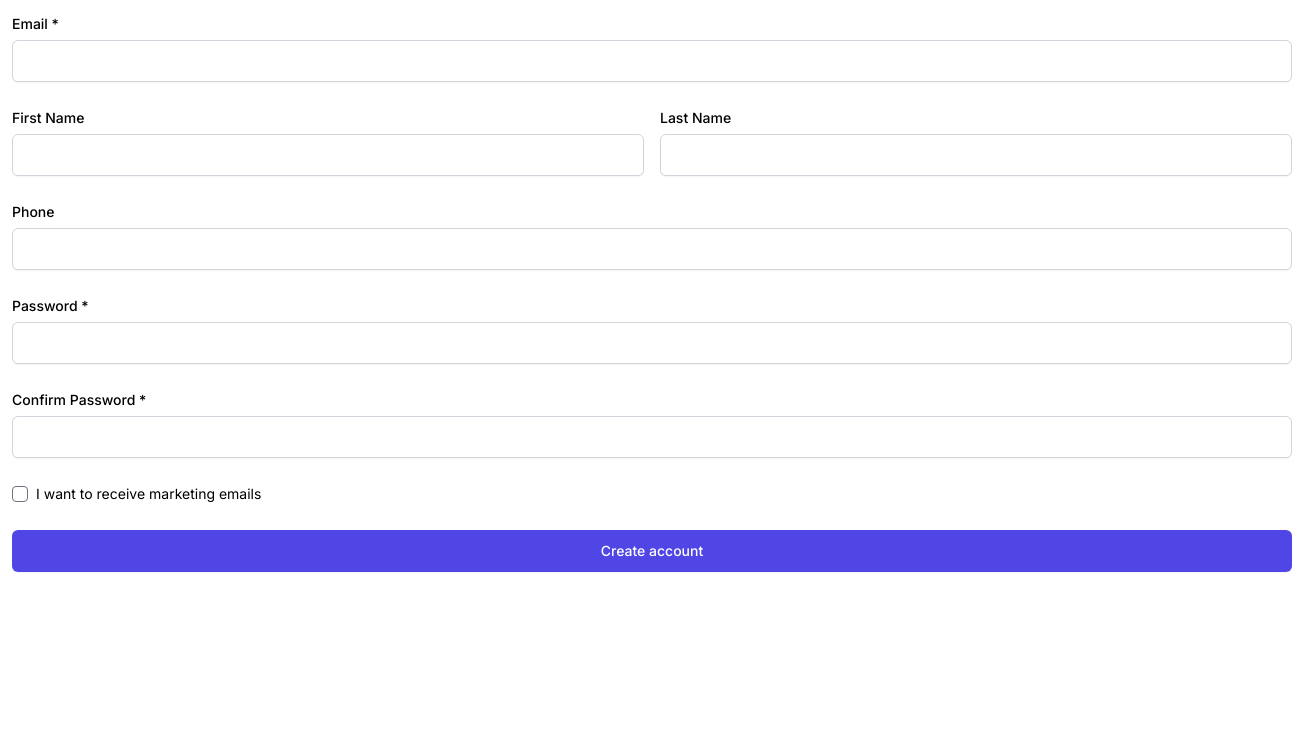
Test case: RegisterForm › should show validation error when passwords do not match
Type "test@example.com" into the field labelled "Email *" at (652, 61), box 12,40 -> 1292,82
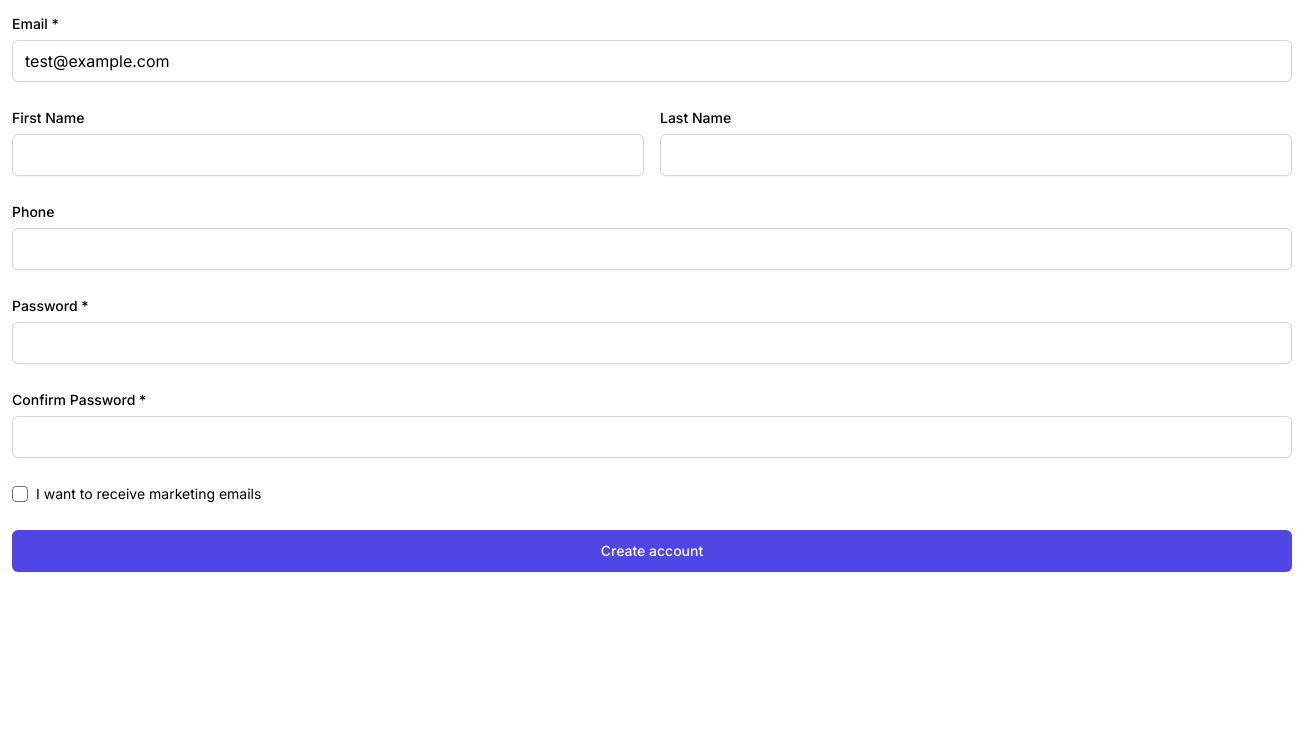
Type "password123" into the password field labelled "Password *" at (652, 343), box 12,322 -> 1292,364
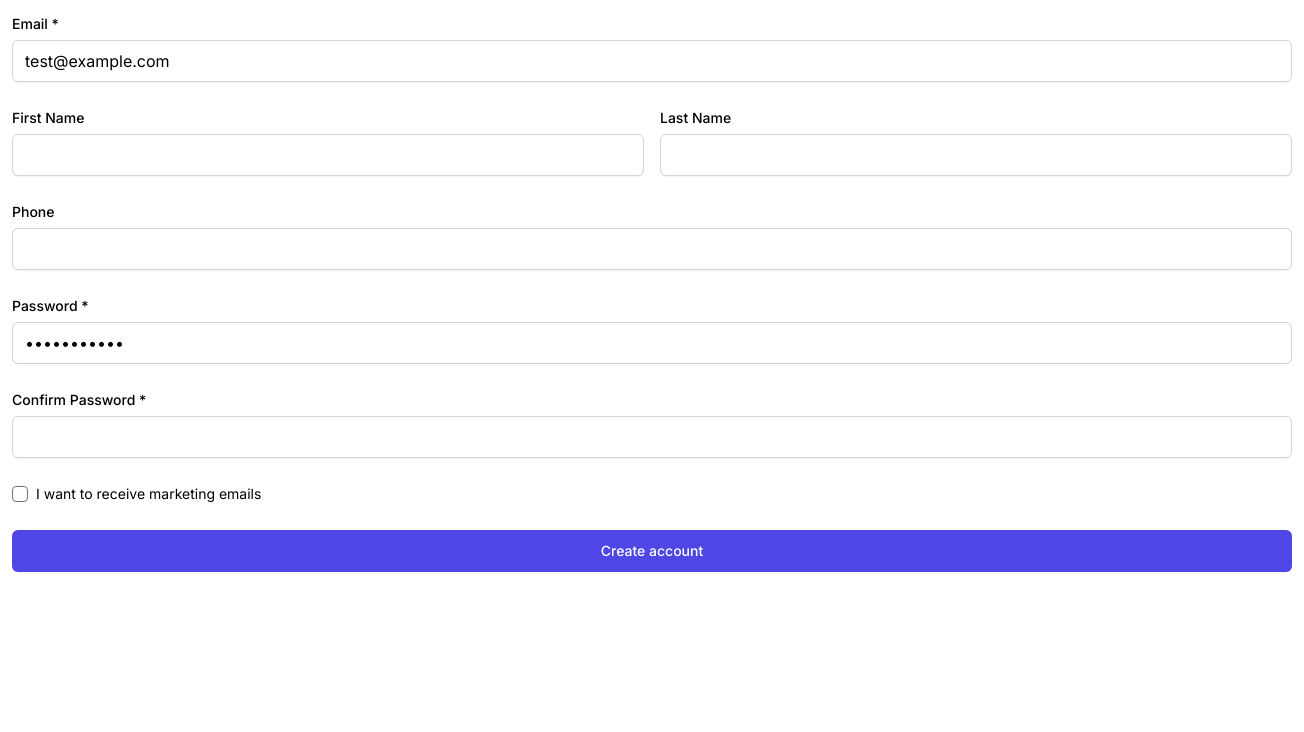
Type "password456" into the password field labelled "Confirm Password *" at (652, 437), box 12,416 -> 1292,458
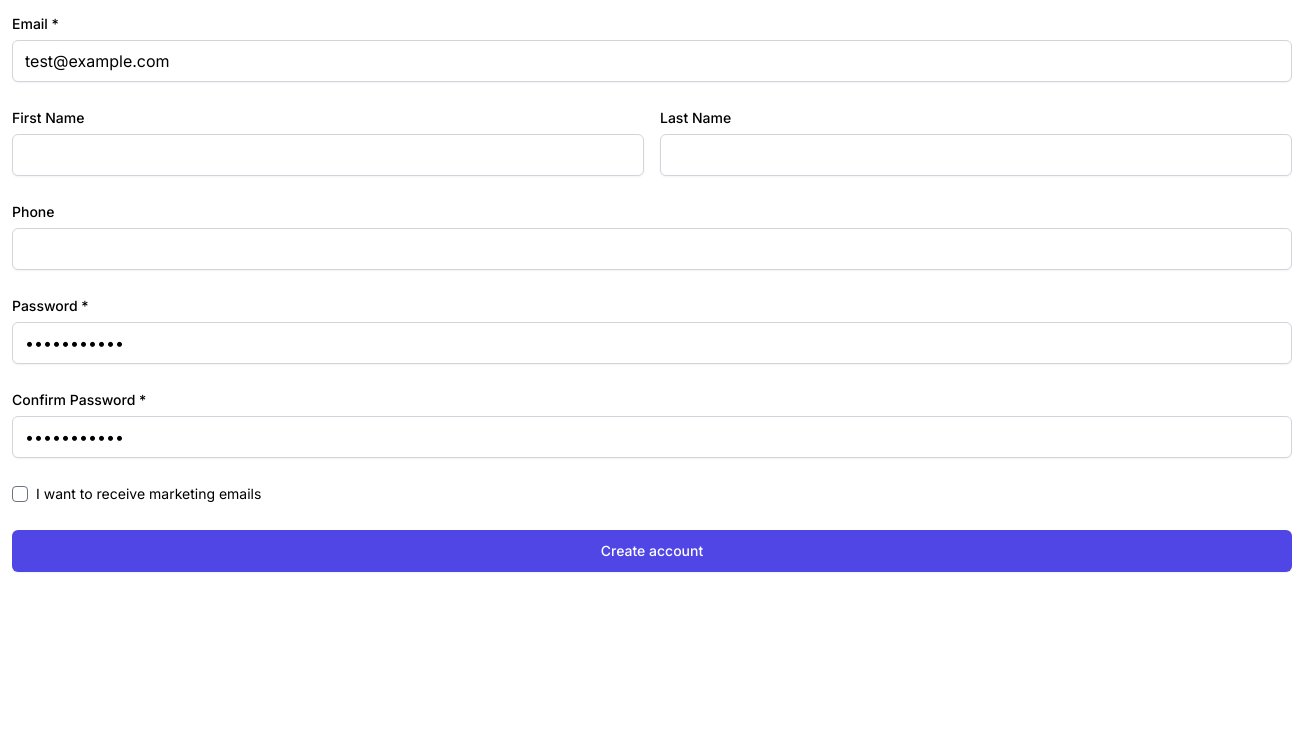
Click the button "Create account" at (652, 551), box 12,530 -> 1292,572
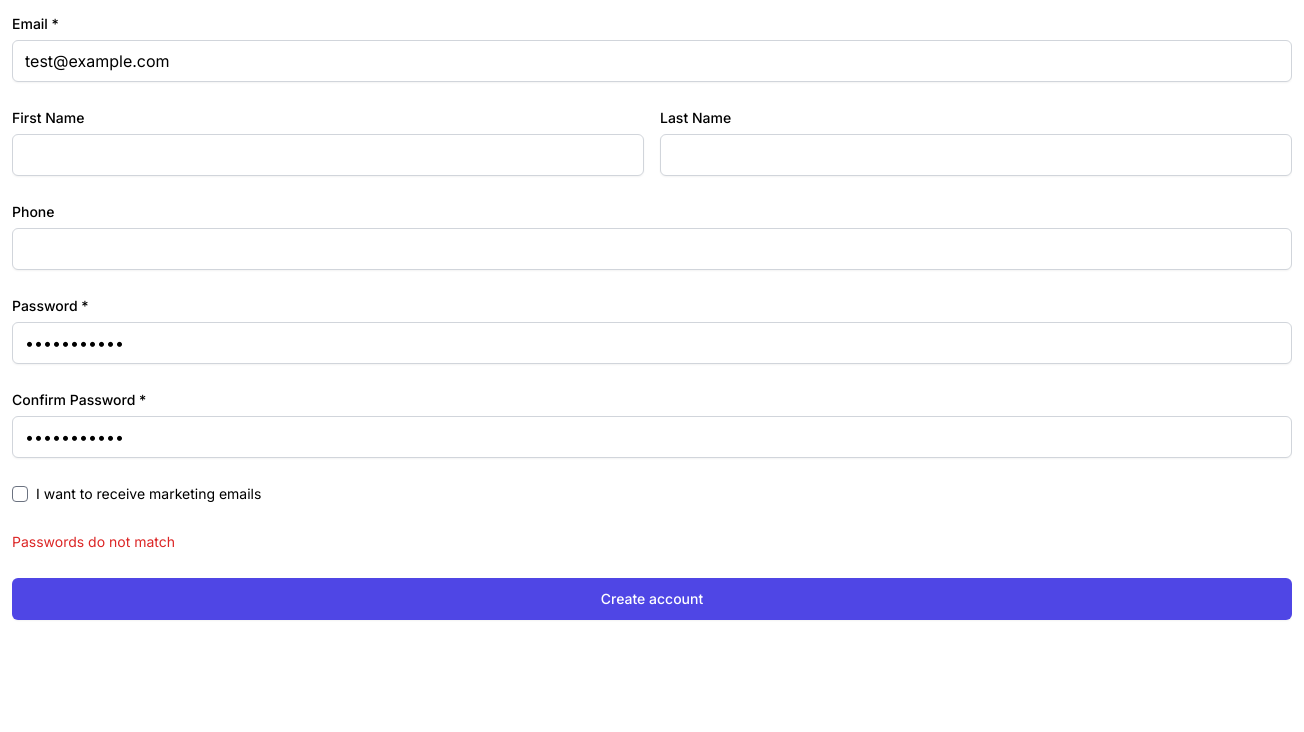
Expected: the text "Passwords do not match" is shown, 12,533 -> 175,550
